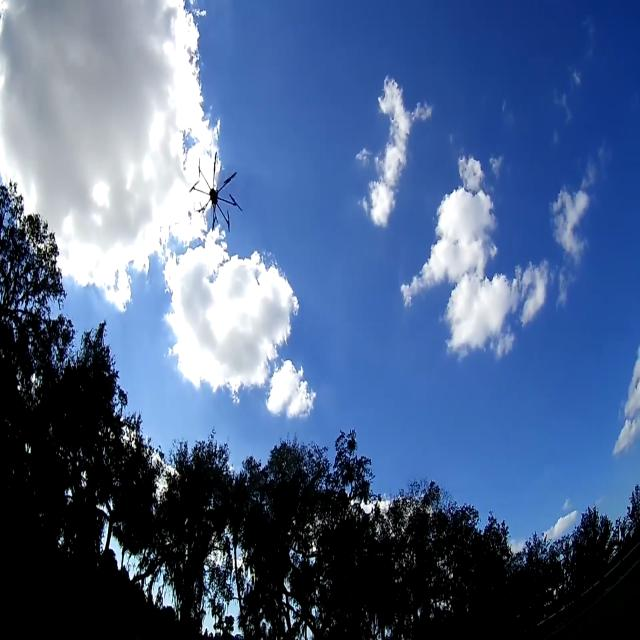drone: (186, 146, 257, 267)
